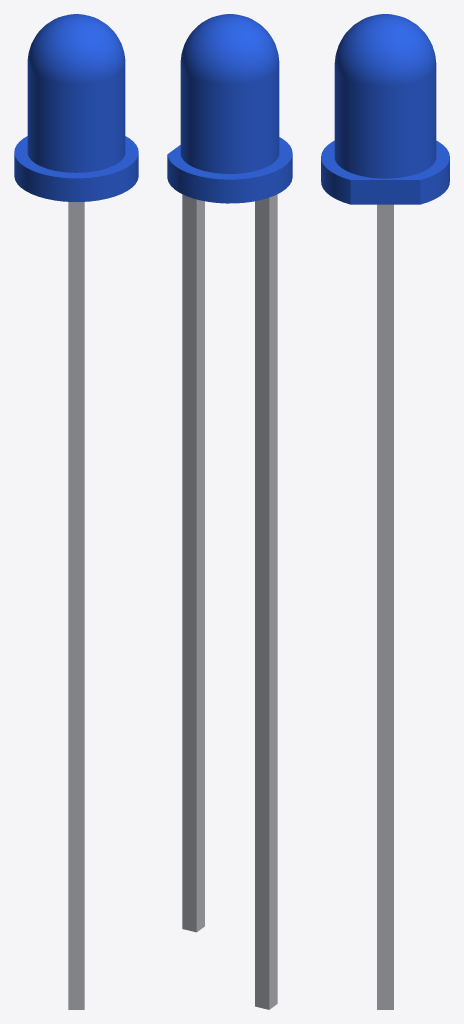
The model's file is led-3mm-blue.glb.
3 views of the same model, side by side, from view 1: azimuth 90°, elevation 25°; view 2: azimuth 150°, elevation 25°; view 3: azimuth 270°, elevation 25° (orthographic). The views are drawn at different scales.
Parts seen in each view (by area): view 1: body, lead-1; view 2: body, lead-1, lead-2; view 3: body, lead-2, lead-1.
Part boxes in pixels (<box>): body: <box>14,14,138,201</box>; lead-1: <box>68,202,84,1009</box>; body: <box>167,14,292,203</box>; lead-1: <box>255,194,277,1009</box>; lead-2: <box>182,194,204,932</box>; body: <box>321,14,449,204</box>; lead-2: <box>377,204,393,984</box>; lead-1: <box>377,985,393,1009</box>.
Bounding box in the file's own units: 0.00349 × 0.0327 × 0.0038.
